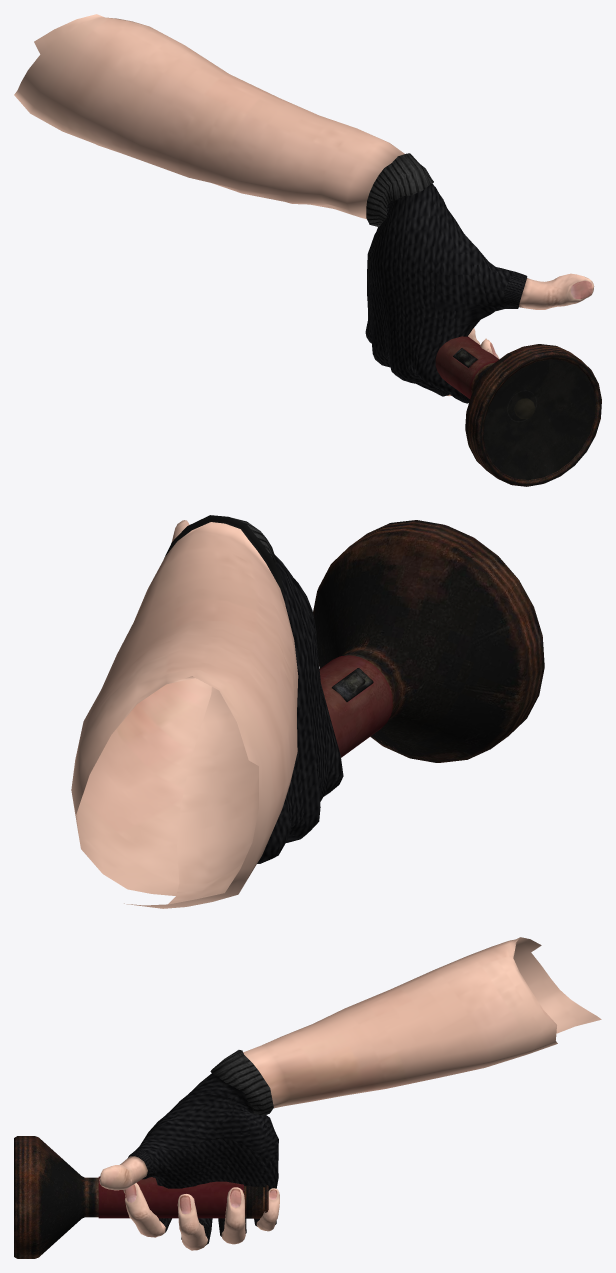
Rendered from sofia_mano.glb.
3 renders of one model, top to bottom at view 1: azimuth 30°, elevation 25°; view 2: azimuth 150°, elevation 25°; view 3: azimuth 270°, elevation 25°, orthographic. The views are drawn at different scales.
Parts seen in each view (by area): view 1: mano, Object_4, Object_3; view 2: mano, Object_4; view 3: mano, Object_4.
Part boxes in pixels (x1=…): mano: x1=14, y1=14, x2=594, y2=403; Object_4: x1=435, y1=336, x2=601, y2=486; Object_3: x1=483, y1=359, x2=595, y2=480; mano: x1=71, y1=515, x2=343, y2=908; Object_4: x1=313, y1=520, x2=544, y2=762; mano: x1=99, y1=937, x2=601, y2=1250; Object_4: x1=14, y1=1136, x2=268, y2=1258.
Bounding box in the file's own units: 0.274 × 0.248 × 0.531.
3 materials, 3 textured.
